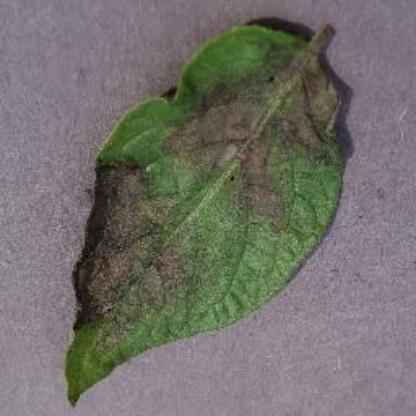Late-Blight: (63, 13, 357, 406)
